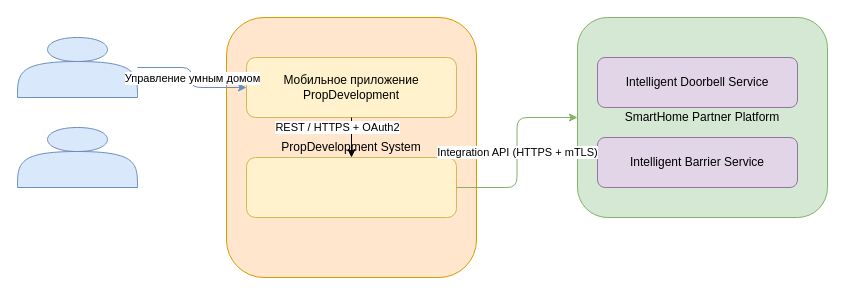
Some shapes in this 845 by 295 pixel diagram are drawn without their labels. Each missing label, with the centre of its shape:
API Gateway / Integration Layer: the point at 351,187
Жилец (Mobile App): the point at 77,157
Собственник жилья (Mobile App): the point at 77,67
